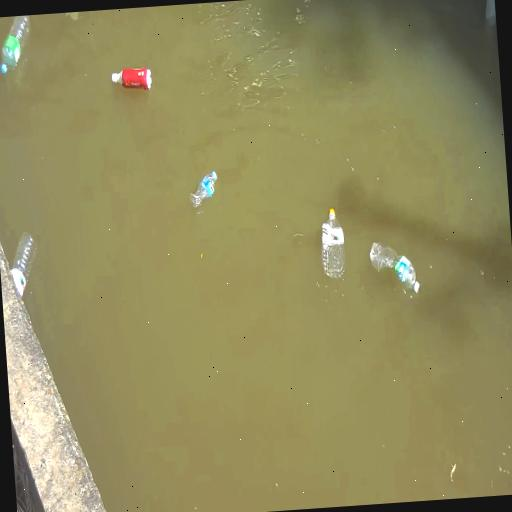plastic: (369, 243, 419, 293), (0, 16, 33, 74), (320, 209, 344, 279), (10, 233, 34, 298), (190, 171, 216, 207), (111, 68, 151, 89)
